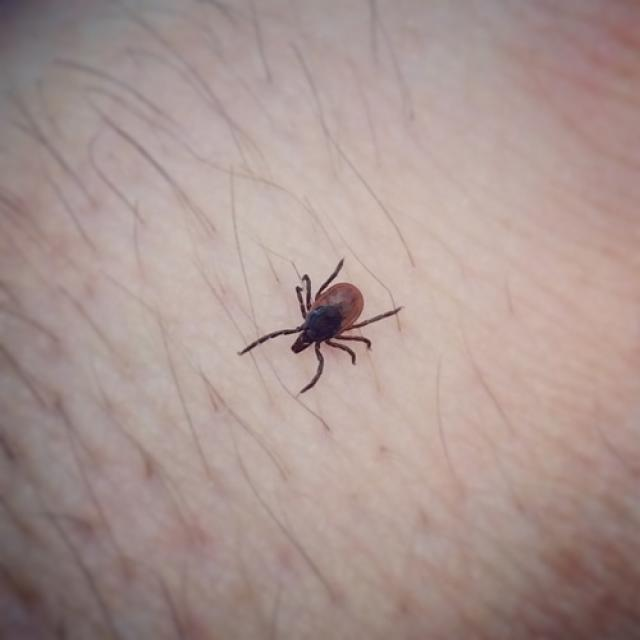Ixodes Ricinus-F: (238, 259, 403, 394)
